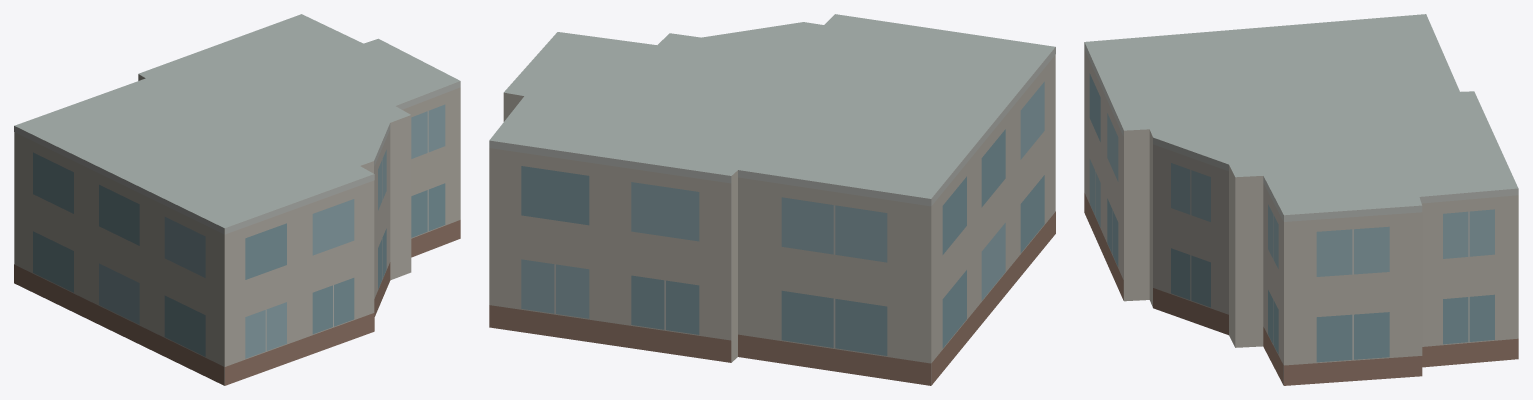
Rendered from survey-upis-32657829.glb.
The picture shows the model from 3 angles, left to right: view 1: azimuth 30°, elevation 25°; view 2: azimuth 150°, elevation 25°; view 3: azimuth 270°, elevation 25°; orthographic projection. The views are drawn at different scales.
Visible parts, largest first — view 1: survey-upis-32657829.tmp; view 2: survey-upis-32657829.tmp; view 3: survey-upis-32657829.tmp.
Part boxes in pixels (bbox=[...]): survey-upis-32657829.tmp: bbox=[14, 14, 460, 385]; survey-upis-32657829.tmp: bbox=[489, 14, 1055, 385]; survey-upis-32657829.tmp: bbox=[1084, 14, 1518, 385].
Size of the model in its own units: 15.44 by 6.1 by 14.07.
